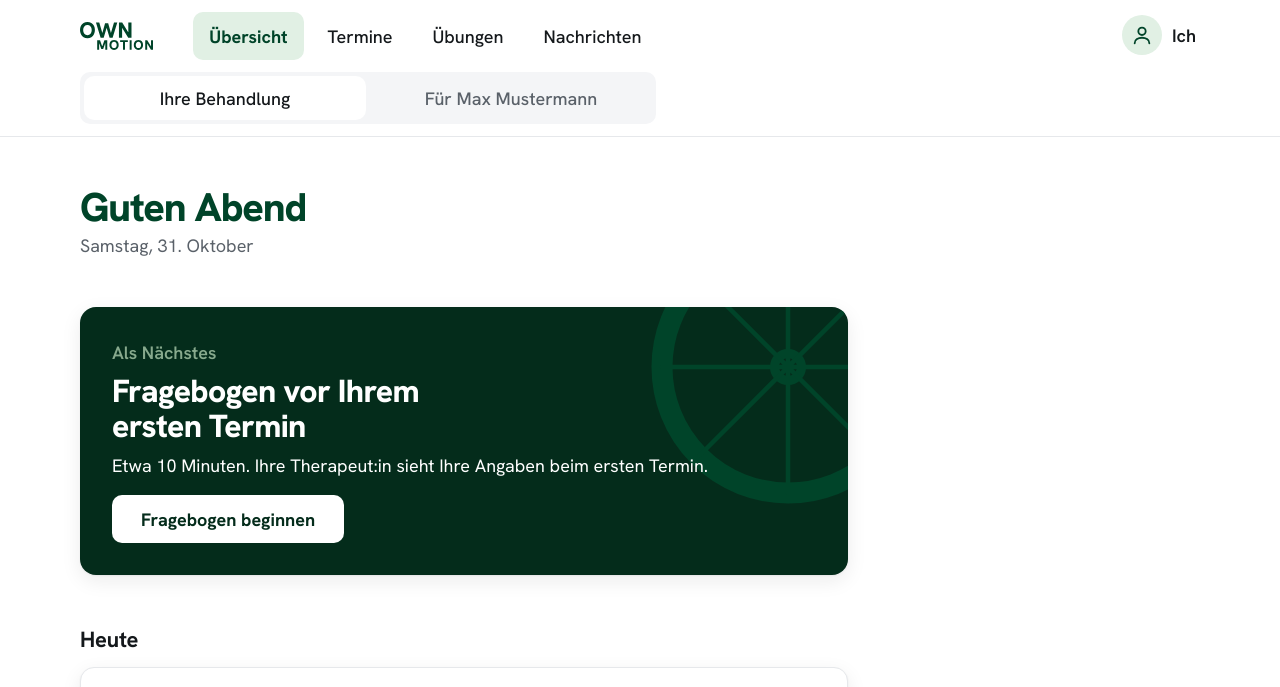
Test: Vertretung auf der Plattform (POR-006, POR-007) › fuehrt eigene Bereiche und Vertretungen im Schalter getrennt
Expected: the link "Ihre Behandlung" is shown, [84,76,366,120]
Expected: the text "Sie handeln für" is not shown
Step 1. Click the link "Für Max Mustermann" → click(511, 98), box [425,86,597,110]
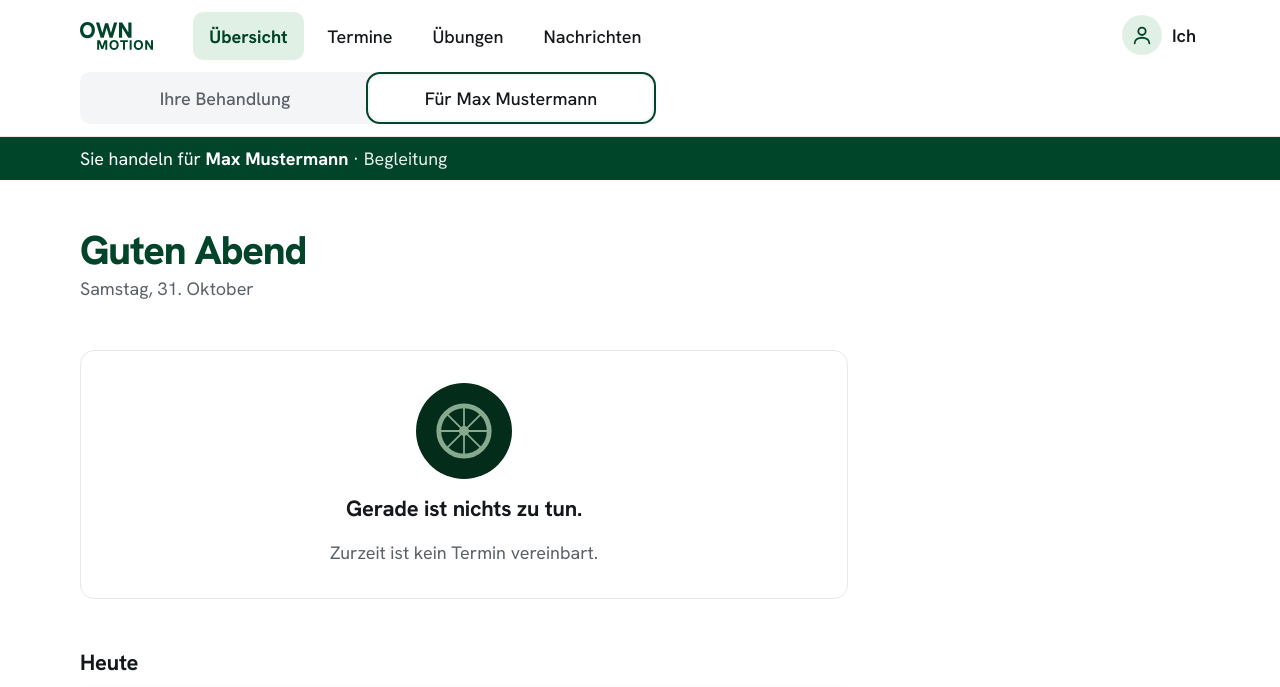
Expected: the message shows "Sie handeln für Max Mustermann", [0,137,1279,180]
